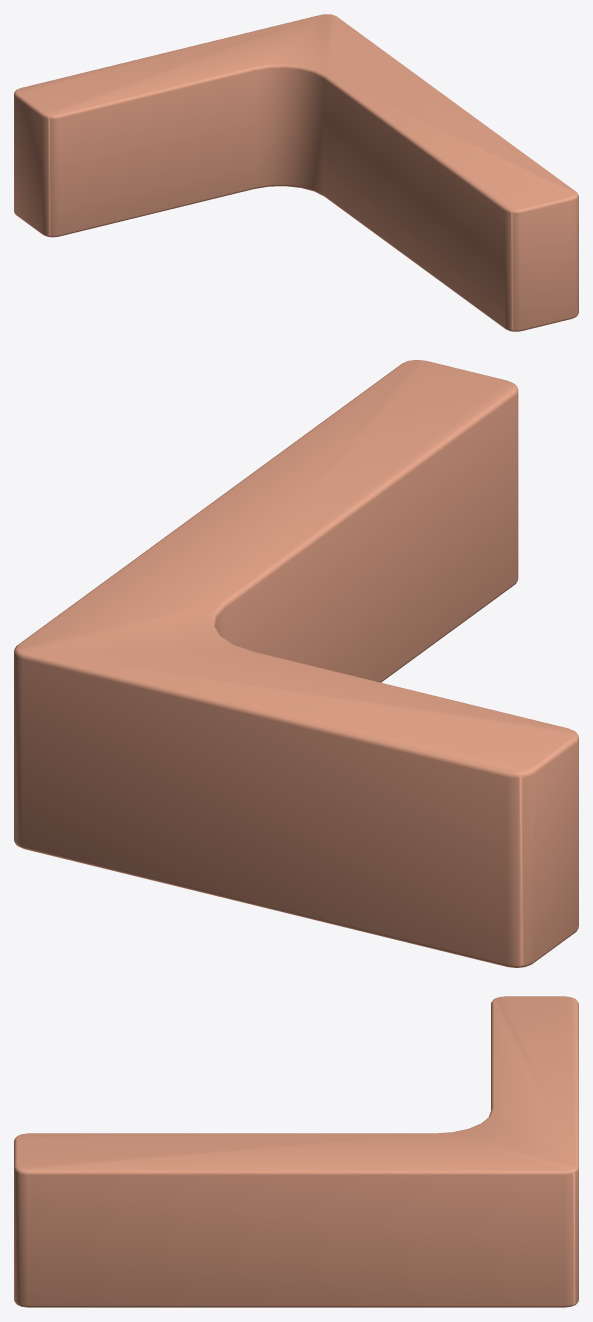
The model's file is island_lv9_2.fbx.
3 views of the same model, one above another, from view 1: azimuth 30°, elevation 25°; view 2: azimuth 150°, elevation 25°; view 3: azimuth 270°, elevation 25° (orthographic). The views are drawn at different scales.
Parts seen in each view (by area): view 1: island_lv9_2; view 2: island_lv9_2; view 3: island_lv9_2.
Part boxes in pixels (bbox=[...]): island_lv9_2: bbox=[14, 14, 578, 331]; island_lv9_2: bbox=[14, 360, 578, 967]; island_lv9_2: bbox=[14, 996, 578, 1307].
Bounding box in the file's own units: 1385 × 500 × 1871.
